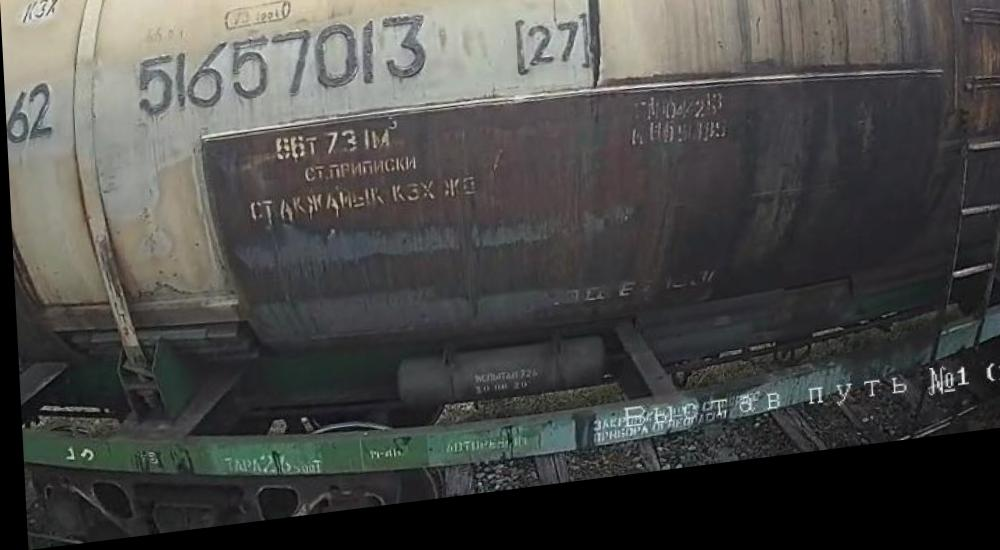Wagon-number: (124, 18, 435, 126)
